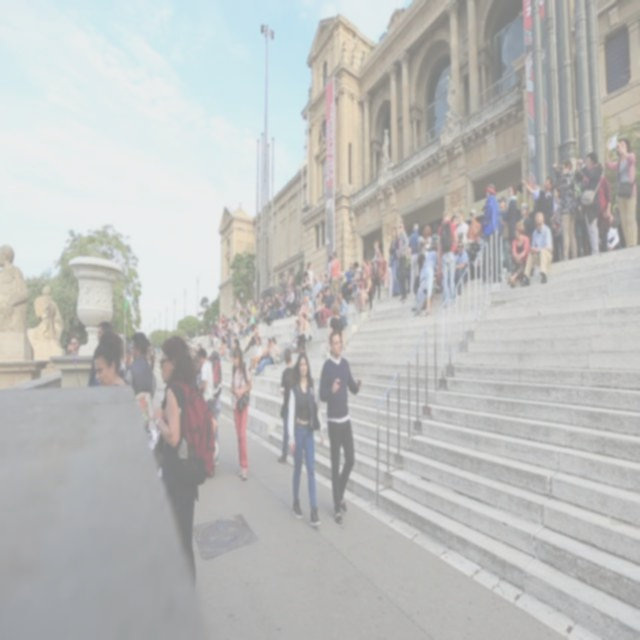pessoa: (150, 334, 217, 594), (318, 328, 363, 526), (286, 349, 325, 528), (606, 133, 640, 248), (574, 149, 605, 256), (229, 342, 253, 480), (233, 270, 300, 318), (27, 282, 65, 362), (519, 209, 553, 287), (0, 240, 28, 331), (124, 330, 158, 400), (520, 174, 556, 240), (479, 181, 502, 284), (558, 157, 579, 263), (277, 346, 295, 466), (437, 210, 457, 310), (92, 338, 130, 386), (506, 218, 530, 290), (88, 318, 113, 386), (196, 345, 217, 415), (596, 168, 613, 254), (496, 194, 514, 274), (272, 318, 302, 366), (211, 356, 222, 467), (252, 336, 280, 379), (406, 222, 422, 296), (386, 225, 402, 299), (396, 218, 410, 302), (326, 300, 346, 358), (502, 182, 520, 246), (550, 185, 564, 263), (412, 250, 428, 318), (452, 240, 470, 298), (370, 238, 385, 302), (574, 186, 586, 258), (186, 338, 202, 388), (295, 312, 313, 355), (358, 270, 374, 314), (330, 250, 342, 304), (446, 72, 458, 123), (379, 125, 392, 171), (466, 208, 482, 244), (454, 210, 470, 246), (242, 322, 260, 354), (218, 312, 230, 359), (346, 260, 359, 303), (354, 269, 366, 315), (248, 336, 264, 370), (118, 338, 134, 370), (256, 338, 274, 366), (337, 290, 350, 328), (338, 262, 356, 286), (65, 332, 81, 359), (418, 222, 432, 252), (301, 270, 313, 302), (208, 318, 220, 349), (302, 293, 314, 323), (228, 333, 240, 363), (298, 294, 309, 326), (404, 244, 411, 292), (230, 317, 251, 333), (146, 338, 156, 369), (305, 261, 315, 291), (518, 200, 530, 223), (314, 270, 327, 290), (251, 317, 273, 328), (324, 286, 334, 310), (551, 158, 563, 178), (326, 253, 333, 286), (362, 256, 373, 275), (431, 221, 438, 248), (318, 290, 327, 310), (576, 156, 586, 171), (64, 342, 72, 354), (450, 212, 458, 222), (359, 262, 364, 272)
